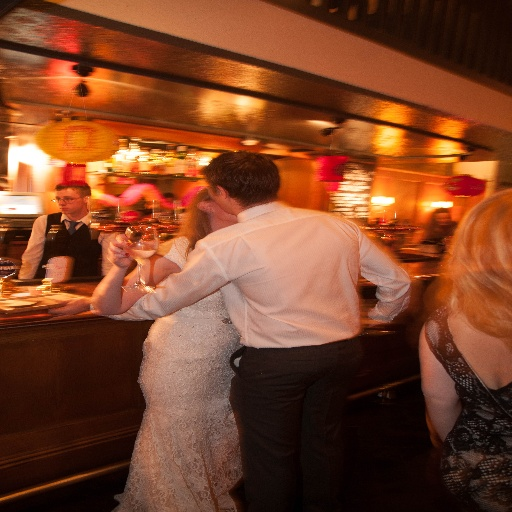hand: (103, 236, 135, 268)
